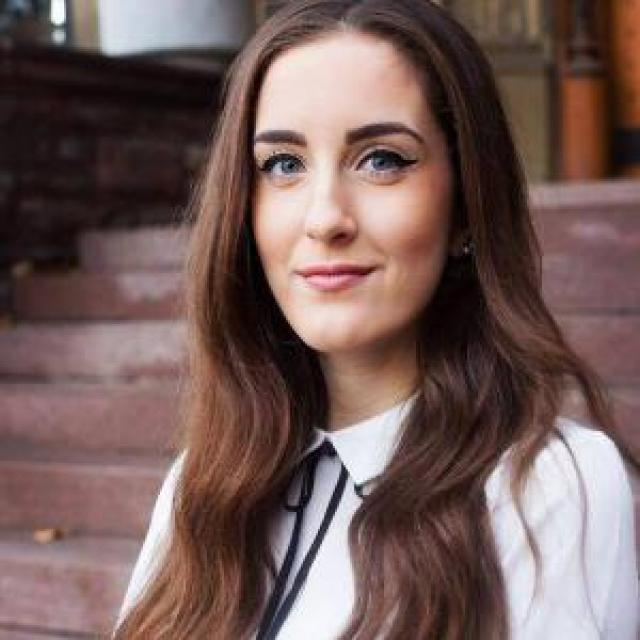human: (117, 3, 640, 640)
